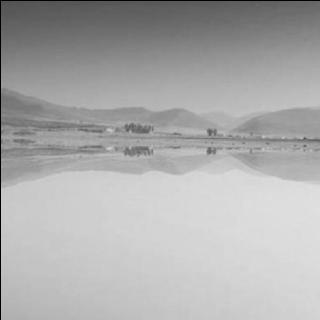Cirrostratus: (0, 173, 320, 320)
